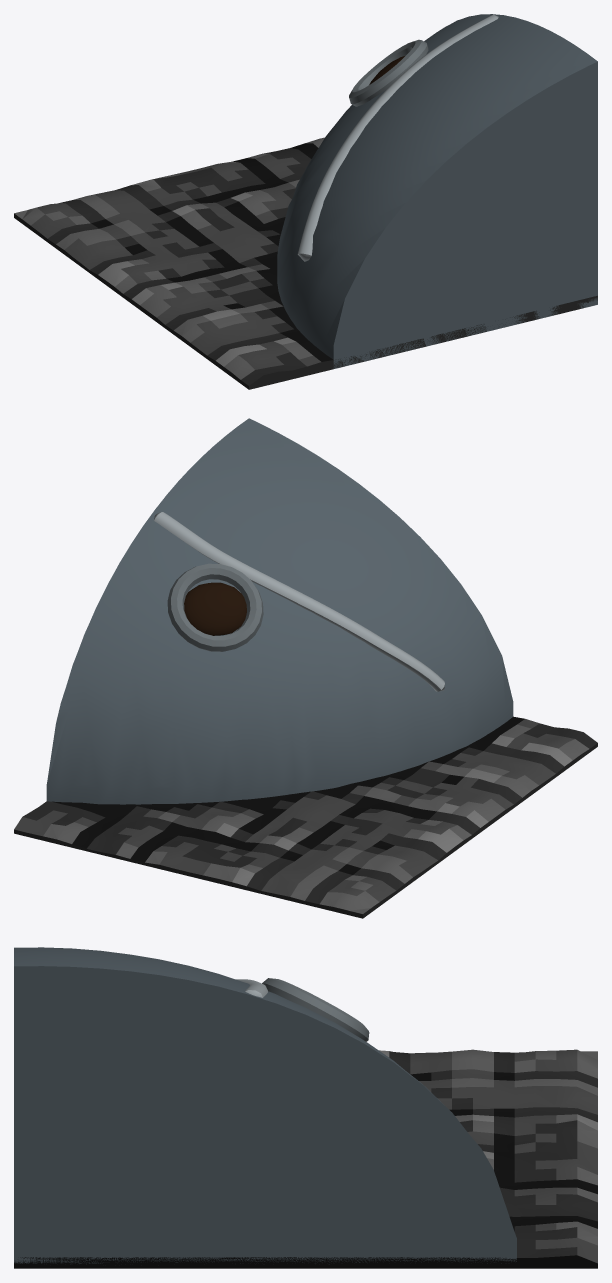
Rendered from armour_dome_tl.glb.
3 views of the same model, one above another, from view 1: azimuth 30°, elevation 25°; view 2: azimuth 150°, elevation 25°; view 3: azimuth 270°, elevation 25° (orthographic). The views are drawn at different scales.
Visible parts, largest first — view 1: armour_dome_tl_shell, armour_dome_tl_tiles, armour_dome_tl_ridge_l, armour_dome_tl_port_ring_l; view 2: armour_dome_tl_shell, armour_dome_tl_tiles, armour_dome_tl_ridge_l, armour_dome_tl_port_ring_l, armour_dome_tl_port_l; view 3: armour_dome_tl_shell, armour_dome_tl_tiles, armour_dome_tl_port_ring_l.
Boxes of the visible parts, bbox=[...] form: armour_dome_tl_shell: bbox=[277, 14, 597, 368]; armour_dome_tl_tiles: bbox=[14, 137, 597, 389]; armour_dome_tl_ridge_l: bbox=[297, 15, 498, 261]; armour_dome_tl_port_ring_l: bbox=[349, 39, 428, 106]; armour_dome_tl_shell: bbox=[46, 418, 513, 804]; armour_dome_tl_tiles: bbox=[14, 716, 597, 918]; armour_dome_tl_ridge_l: bbox=[154, 512, 444, 691]; armour_dome_tl_port_ring_l: bbox=[167, 563, 263, 651]; armour_dome_tl_port_l: bbox=[184, 582, 246, 635]; armour_dome_tl_shell: bbox=[14, 947, 516, 1264]; armour_dome_tl_tiles: bbox=[14, 1049, 597, 1268]; armour_dome_tl_port_ring_l: bbox=[262, 978, 369, 1041].
Size of the model in its own units: 23.98 by 15.99 by 27.98.
